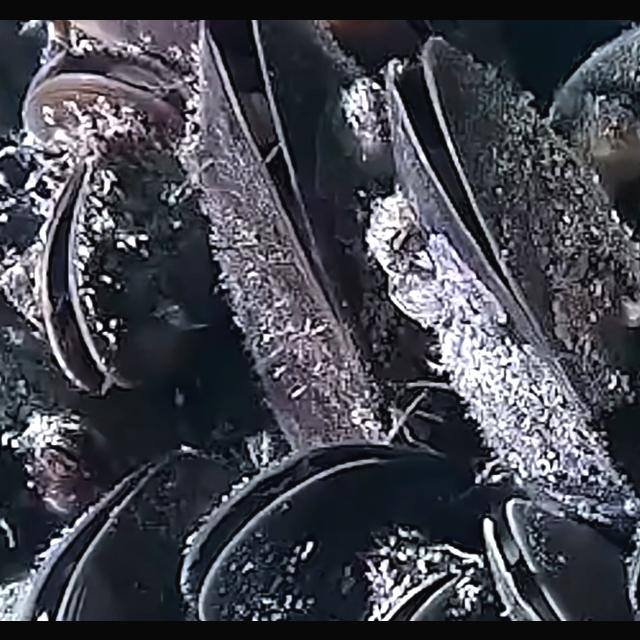Oyster-Open: (366, 34, 640, 524), (181, 19, 445, 455), (180, 436, 456, 620), (30, 128, 212, 398), (22, 450, 248, 620), (23, 36, 196, 182), (484, 496, 640, 620), (378, 558, 472, 620)
